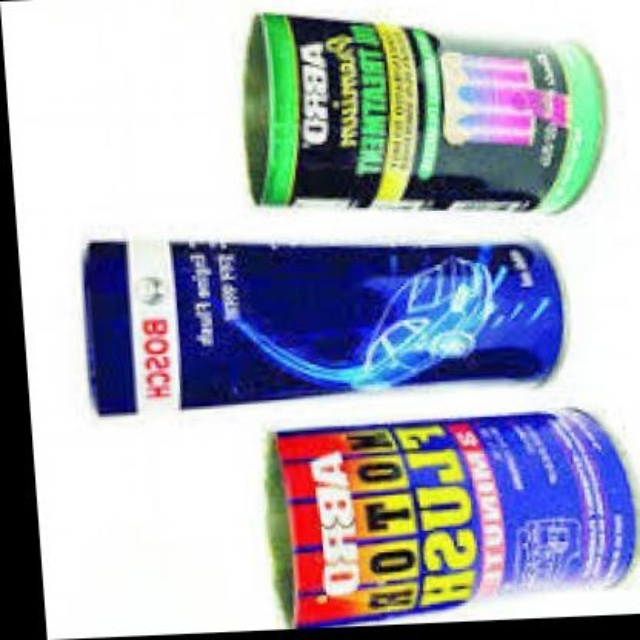trash: (269, 409, 634, 625), (245, 14, 603, 209), (172, 243, 562, 406), (85, 243, 134, 412)
